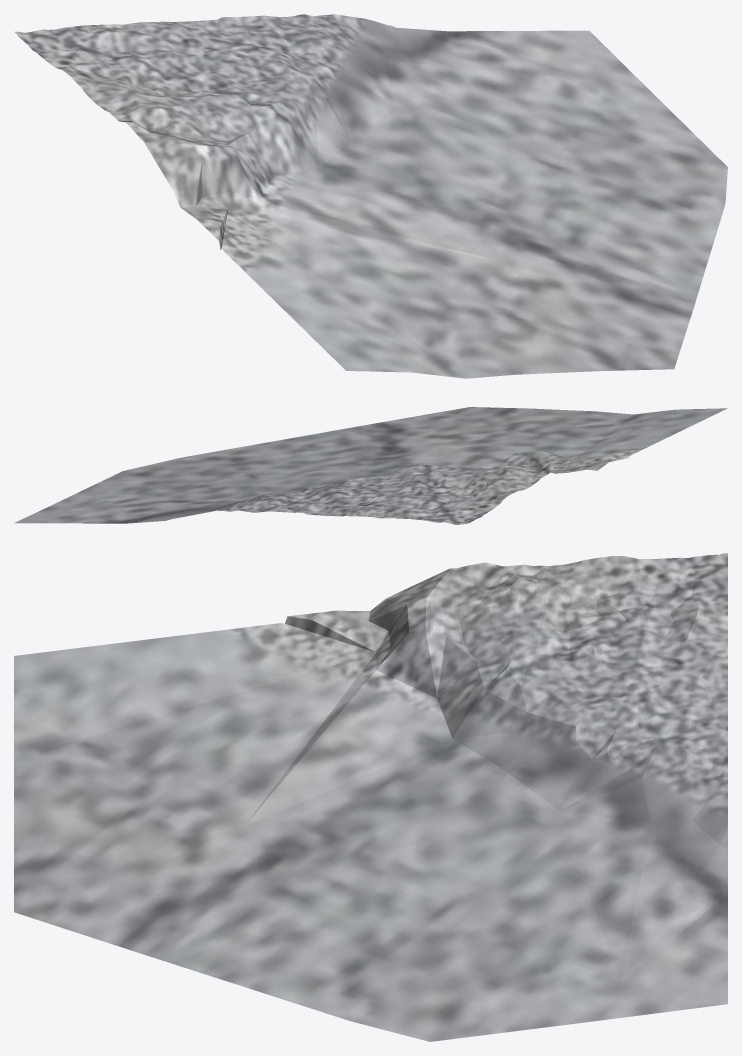
3 views of the same model, one above another, from view 1: azimuth 30°, elevation 25°; view 2: azimuth 150°, elevation 25°; view 3: azimuth 270°, elevation 25° (orthographic). The views are drawn at different scales.
Bounding box in the file's own units: 0.8374 × 0.2422 × 0.8374.
Materials: 2 (2 with a texture image).
